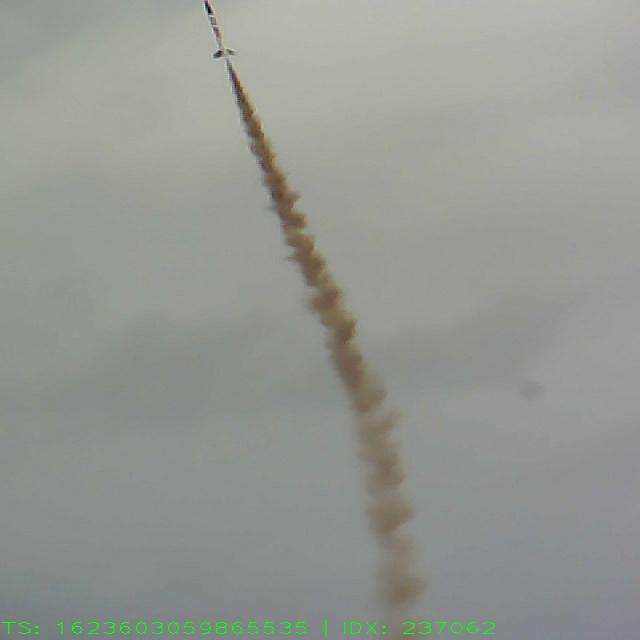Rocket: (202, 0, 238, 60)
